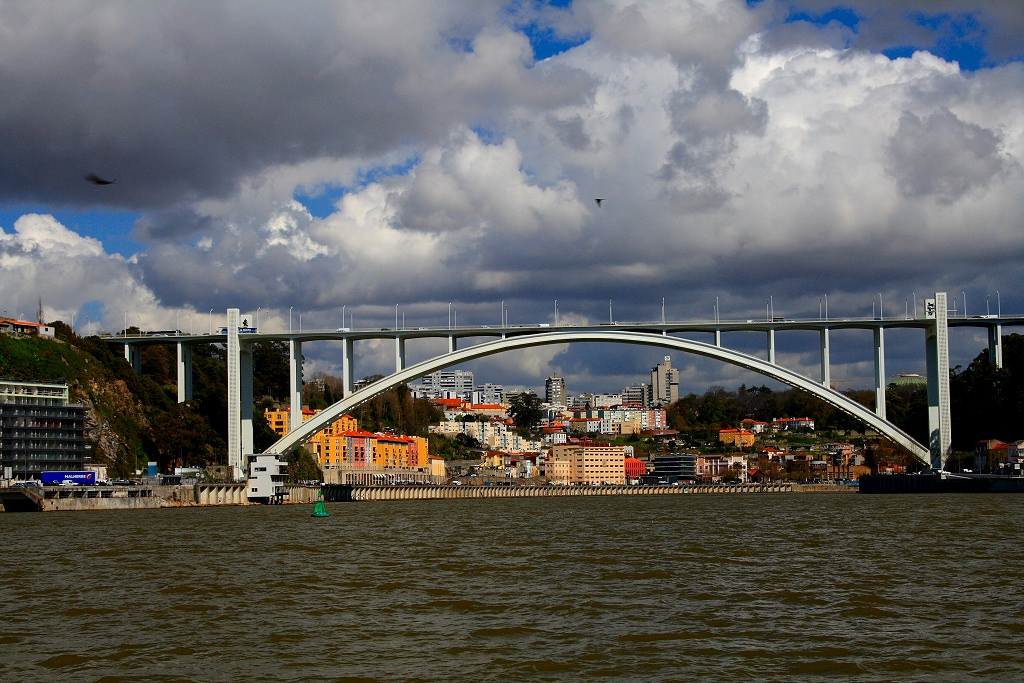arrabida: (88, 290, 1023, 484)
